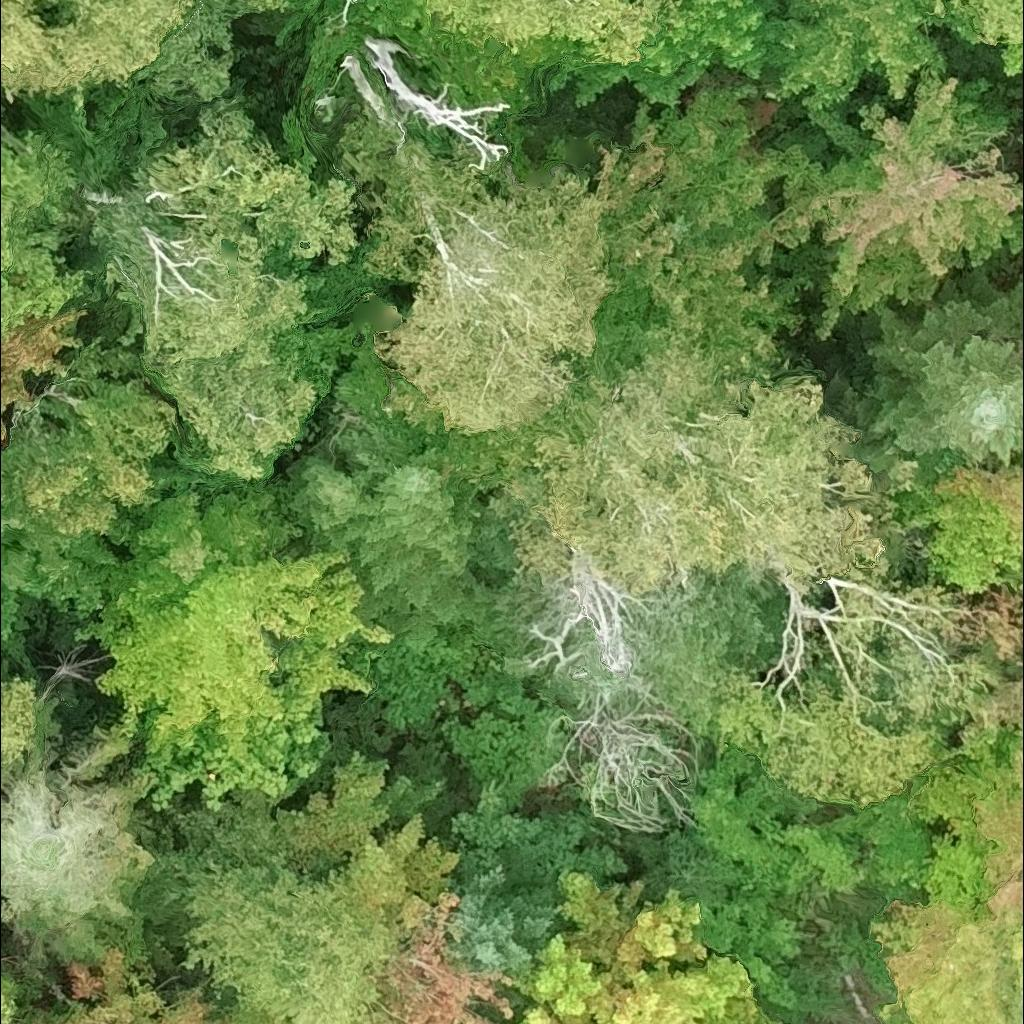crown: (488, 307, 896, 596), (90, 91, 364, 487), (330, 109, 621, 443), (765, 51, 1023, 337), (591, 77, 819, 400), (89, 543, 398, 762), (0, 734, 194, 974), (508, 869, 780, 1023), (163, 852, 407, 1023), (848, 264, 1023, 469), (341, 445, 504, 661), (0, 368, 181, 549), (711, 679, 944, 810), (744, 0, 944, 123), (109, 482, 312, 602), (0, 457, 124, 644), (274, 749, 452, 871), (138, 708, 335, 813), (0, 128, 94, 338), (422, 0, 689, 70), (380, 890, 516, 1023), (870, 900, 1016, 1023), (0, 0, 188, 86), (902, 464, 1023, 594), (629, 0, 780, 102), (969, 731, 1023, 998), (347, 810, 464, 932), (47, 949, 228, 1023), (688, 743, 797, 865), (454, 860, 568, 975), (278, 450, 368, 552), (766, 818, 868, 898), (919, 0, 1023, 51), (0, 661, 41, 769), (0, 968, 17, 1023), (209, 0, 283, 12), (1001, 39, 1023, 79), (1004, 990, 1023, 1023), (1009, 124, 1023, 152), (670, 0, 690, 16), (0, 640, 3, 664)
